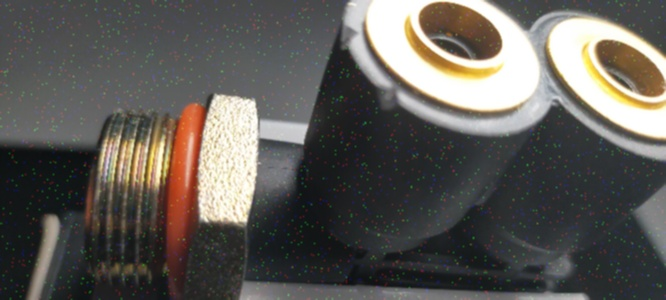bump: (369, 80, 410, 117), (331, 15, 360, 57)
joint line: (269, 163, 300, 175)
white mark: (255, 154, 266, 167)
